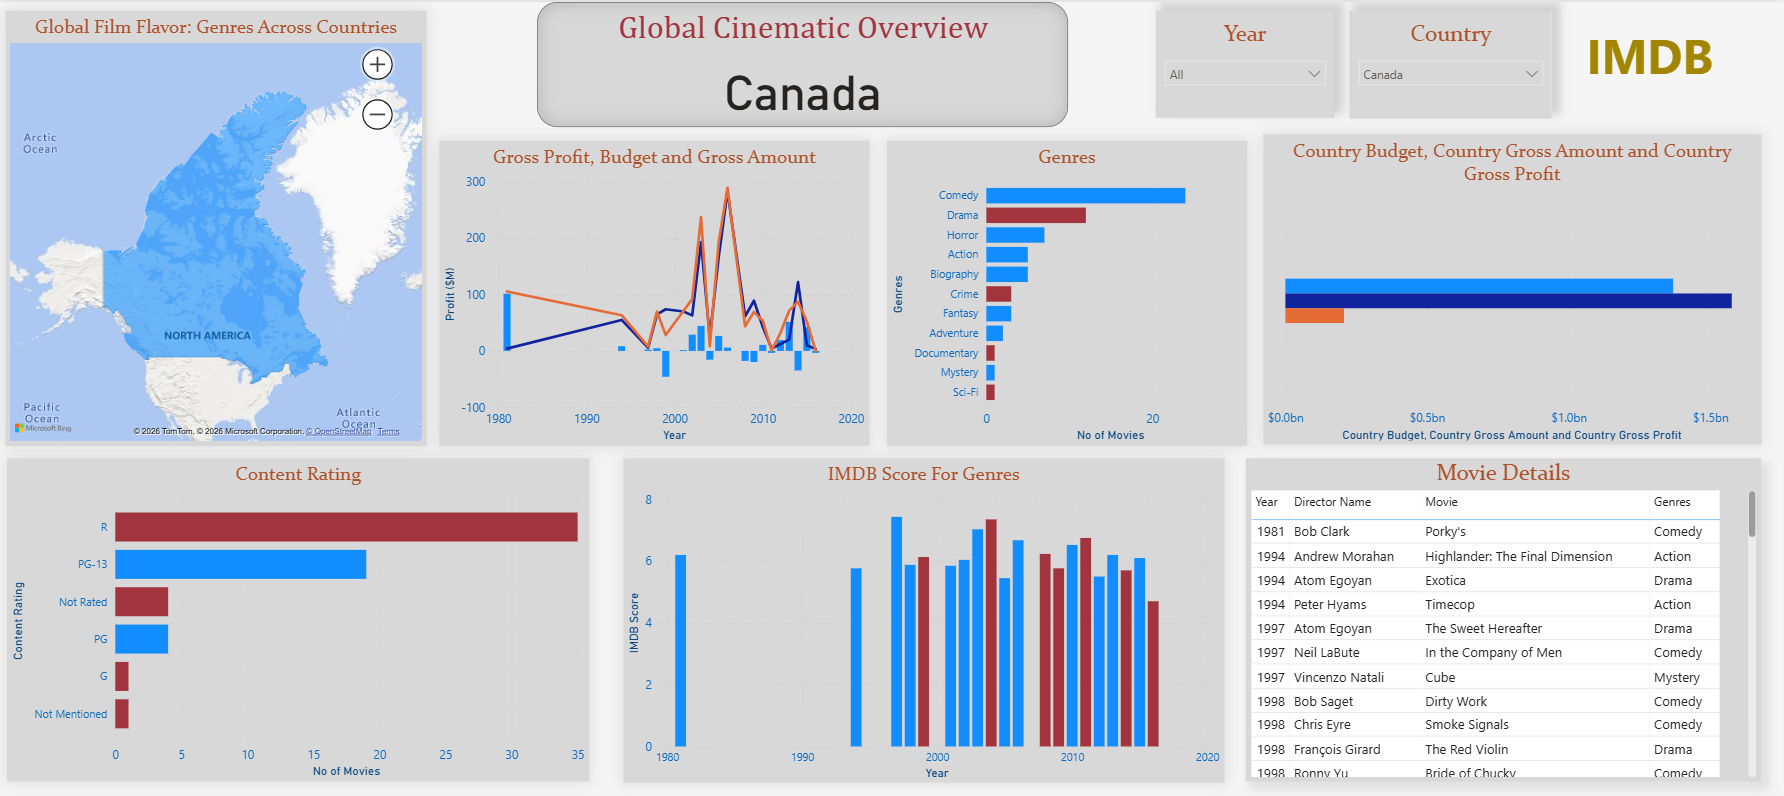

The dashboard page shown, as its layout file describes it:
{"tool":"powerbi","page":{"name":"Country & Director","canvas":[2000,890],"ordinal":2},"visuals":[{"type":"slicer","title":"Year","fields":{"Values":["Fact.title_year"]},"box":[9.6,16.9,395.6,125.4],"z":0},{"type":"map","title":"Global Film Flavor: Genres Across Countries","fields":{"Category":["Dim Country.Country"],"Series":["Dim Genres.Genres"],"Size":["Sum(Fact.budget)"]},"box":[9.6,155.6,460.7,341.3],"z":1000},{"type":"slicer","title":"Country","fields":{"Values":["Dim Country.Country"]},"box":[413.7,16.9,226.7,120.6],"z":2000},{"type":"tableEx","title":"Movie Details","fields":{"Values":["Fact.title_year","Dim Directors_Name.Director Name","Fact.movie_title","Dim Genres.Genres"]},"box":[1398.7,525.5,575.8,347.6],"z":3000},{"type":"card","title":"Global Cinematic Overview","fields":{"Values":["Min(Dim Country.Country)"]},"box":[646.4,2.4,594.6,139.9],"z":4000},{"type":"textbox","box":[1279.3,6.3,496.2,136.1],"z":5000},{"type":"lineClusteredColumnComboChart","title":"Gross Profit, Budget and Gross Amount","fields":{"Category":["Fact.title_year"],"Y":["Sum(Fact.Gross Profit)"],"Y2":["Sum(Fact.budget)","Sum(Fact.gross)"]},"box":[495.7,155.6,481.2,341.3],"z":6000},{"type":"barChart","title":"Genres","fields":{"Category":["Dim Genres.Genres"],"Y":["CountNonNull(Fact.title_year)"]},"box":[996.2,155.6,402.8,341.3],"z":7000},{"type":"columnChart","title":"IMDB Score For Genres","fields":{"Category":["Fact.title_year"],"Y":["Sum(Fact.imdb_score)"],"Series":["Dim Genres.Genres"]},"box":[701,532.7,673.4,341.7],"z":8000},{"type":"barChart","title":"Content Rating","fields":{"Category":["Dim Content_Rating.Content Rating"],"Y":["CountNonNull(Fact.title_year)"]},"box":[10.5,531.8,653.3,341.3],"z":9000},{"type":"clusteredBarChart","fields":{"Y":["Fact.Country_Budget","Fact.Country_Gross","Fact.Country_Profit"]},"box":[1417.5,148.7,536,347.6],"z":9001}]}

Visuals, with their boxes in screenshot pixels (x1, y1, x2, y2), scaled from the page's 2000x890 canvas onto the 1784x796 screenshot:
"Year" slicer: [left=9, top=15, right=361, bottom=127]
"Global Film Flavor: Genres Across Countries" map: [left=9, top=139, right=420, bottom=444]
"Country" slicer: [left=369, top=15, right=571, bottom=123]
"Movie Details" tableEx: [left=1248, top=470, right=1761, bottom=781]
"Global Cinematic Overview" card: [left=577, top=2, right=1107, bottom=127]
textbox: [left=1141, top=6, right=1584, bottom=127]
"Gross Profit, Budget and Gross Amount" lineClusteredColumnComboChart: [left=442, top=139, right=871, bottom=444]
"Genres" barChart: [left=889, top=139, right=1248, bottom=444]
"IMDB Score For Genres" columnChart: [left=625, top=476, right=1226, bottom=782]
"Content Rating" barChart: [left=9, top=476, right=592, bottom=781]
clusteredBarChart - Fact.Country_Budget x Fact.Country_Gross: [left=1264, top=133, right=1743, bottom=444]
